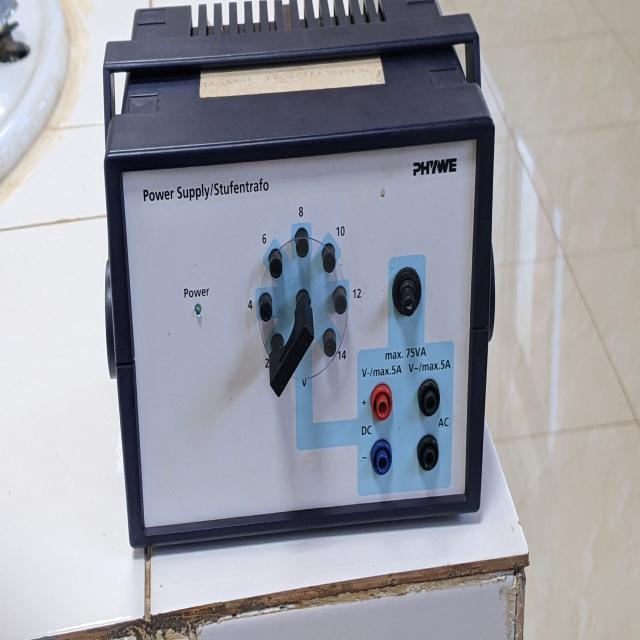Power Supply Stufentrafo_75VA: (91, 2, 508, 556)
